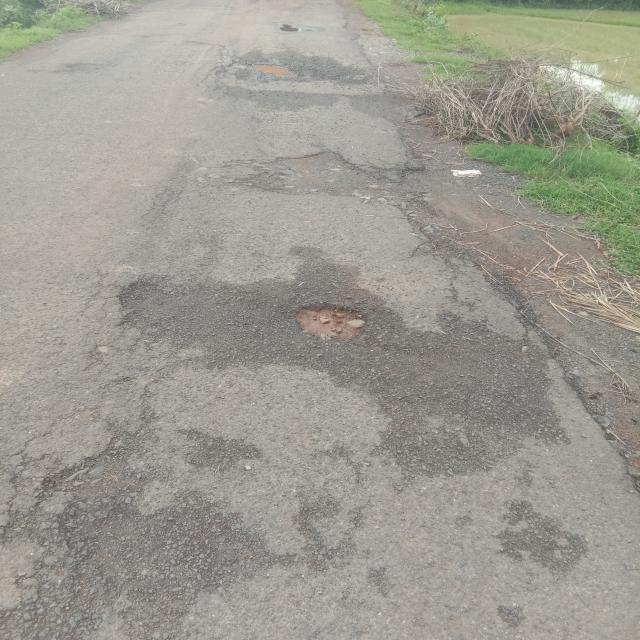potholes: (230, 155, 396, 207), (288, 300, 368, 344), (230, 52, 318, 88), (278, 18, 302, 36)
